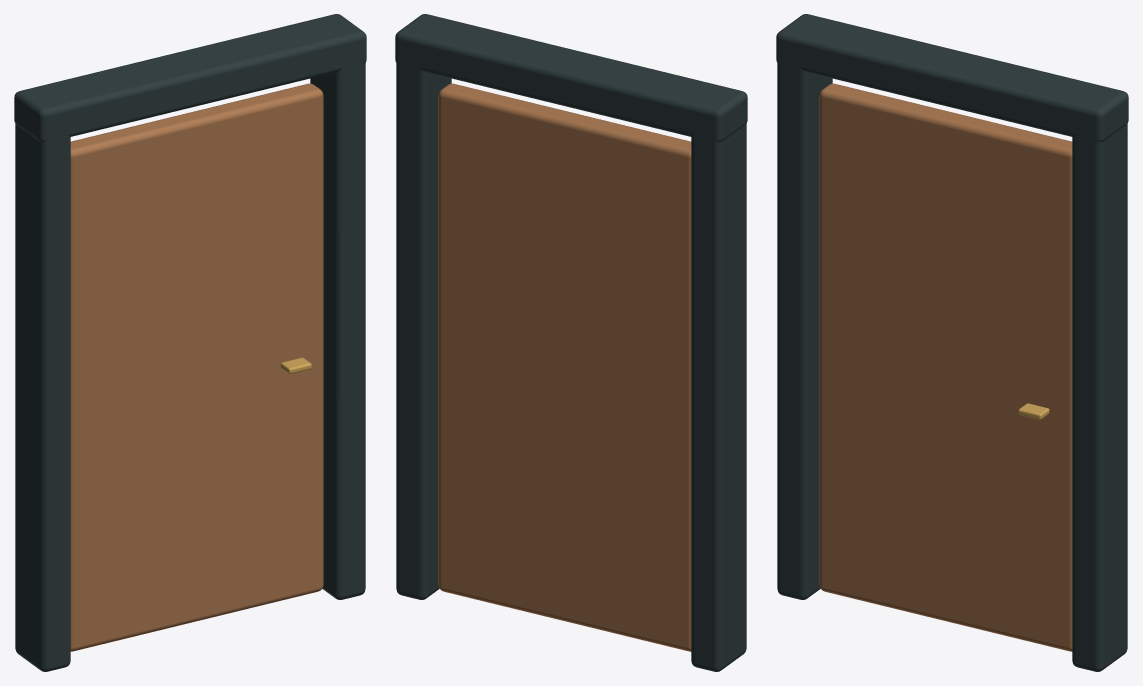
File: door.glb
3 renders of one model, left to right at view 1: azimuth 30°, elevation 25°; view 2: azimuth 150°, elevation 25°; view 3: azimuth 330°, elevation 25°, orthographic.
Visible parts, largest first — view 1: door; view 2: door; view 3: door.
Part boxes in pixels (x1,y1,x2,y2): door: [14, 14, 366, 671]; door: [395, 14, 747, 671]; door: [776, 14, 1128, 671].
Size of the model in its own units: 1.4 by 2.3 by 0.235.
